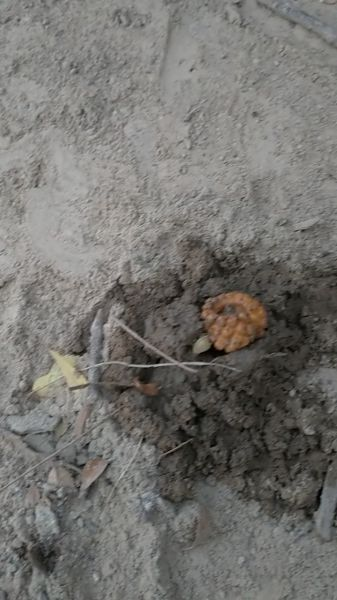eggs: (196, 286, 270, 359)
